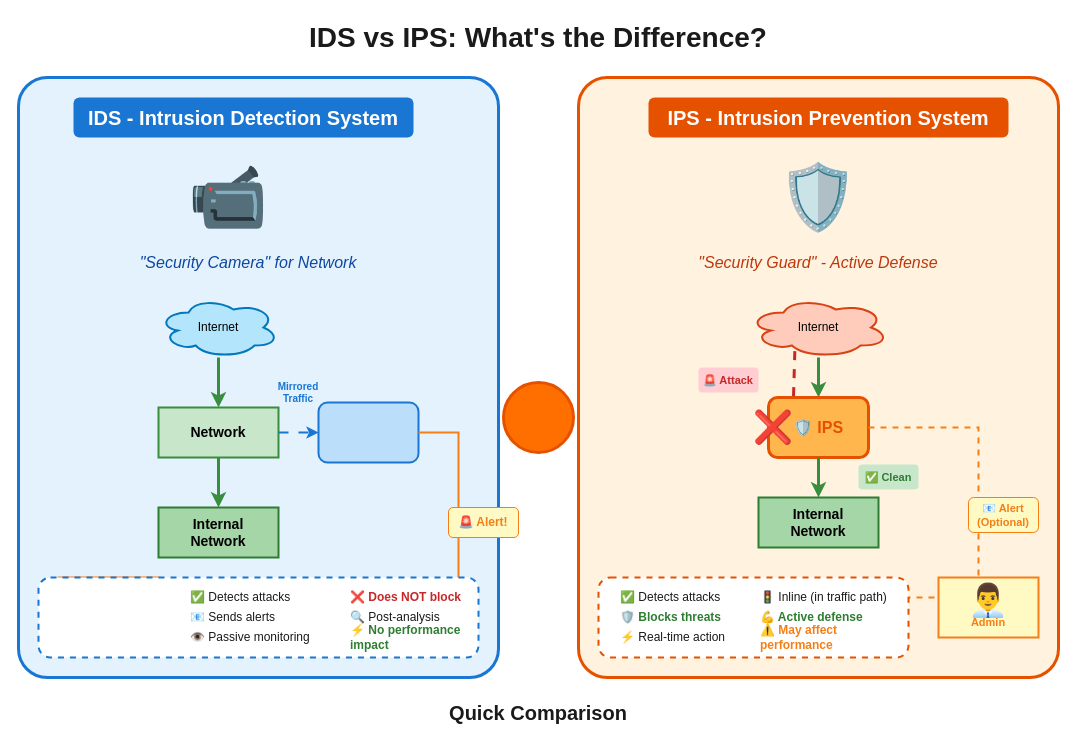
This 1077x744 diagram has some shape labels left out. Here are the shapes that lost their labels. From the top down, the centre of each, then its label:
the point at 368,432: 📹 IDS
the point at 538,417: VS
